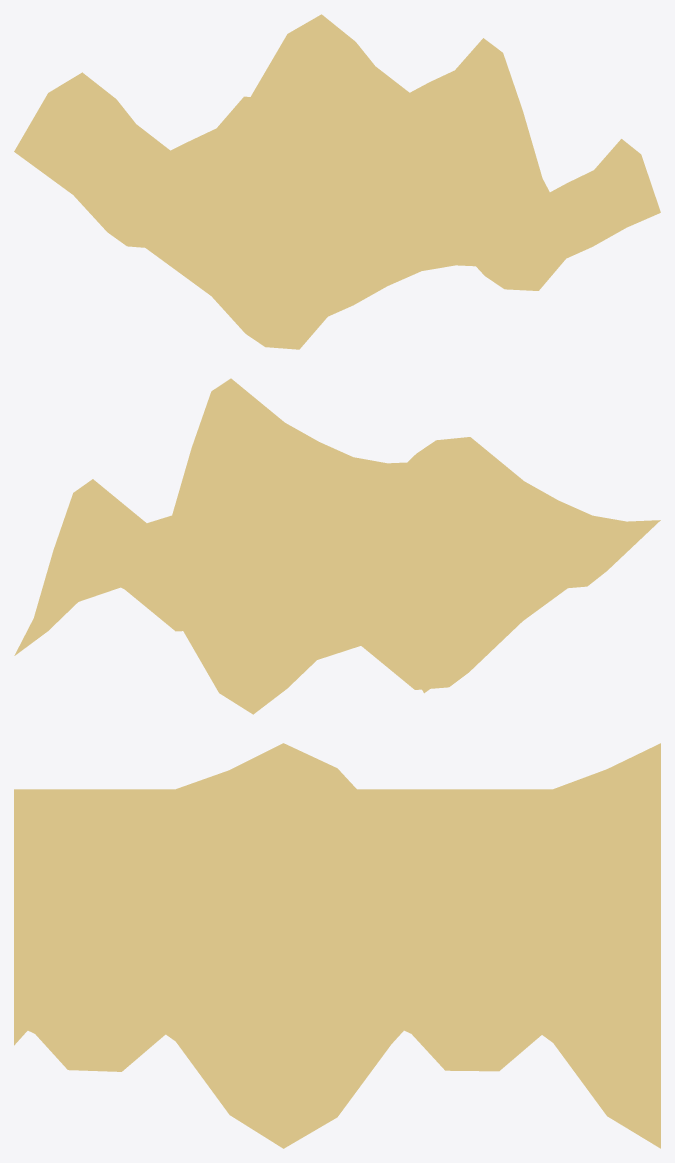
File: spin.gltf
The picture shows the model from 3 angles, top to bottom: view 1: azimuth 30°, elevation 25°; view 2: azimuth 150°, elevation 25°; view 3: azimuth 270°, elevation 25°; orthographic projection. The views are drawn at different scales.
Bounding box in the file's own units: 1 × 0.2932 × 1.
